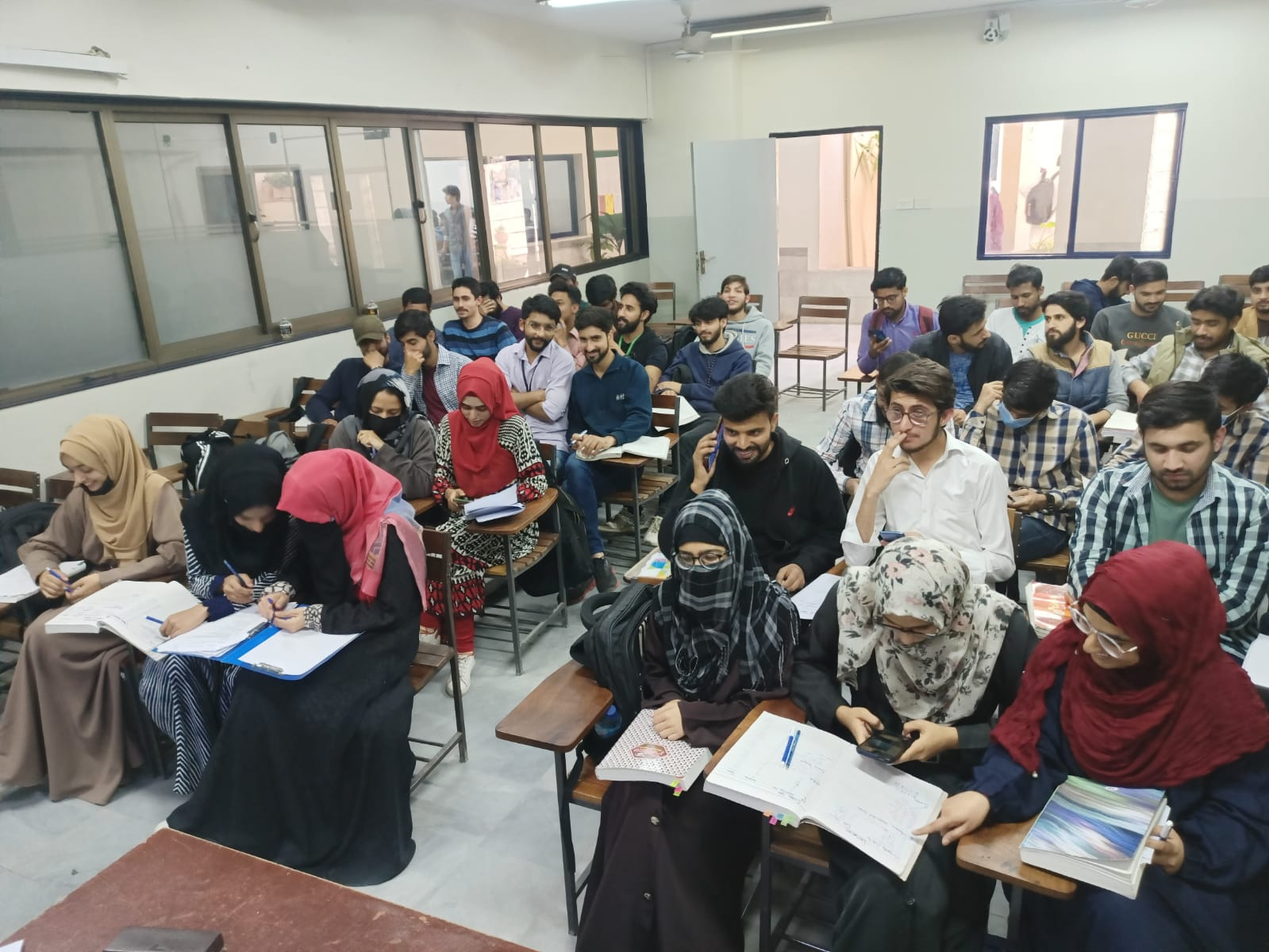non-cheating: (867, 536, 969, 652), (666, 489, 751, 599), (1139, 382, 1226, 489), (214, 440, 284, 537), (886, 360, 958, 452), (356, 367, 410, 438), (1186, 285, 1243, 352), (456, 356, 506, 428), (518, 294, 561, 352), (616, 281, 658, 334), (1129, 261, 1169, 316), (1006, 265, 1044, 318), (690, 296, 729, 346), (871, 267, 908, 318), (450, 277, 482, 318), (723, 274, 751, 316), (1250, 264, 1269, 315)
phone: (847, 703, 955, 769), (694, 415, 726, 479), (866, 328, 893, 359), (447, 485, 475, 514)
